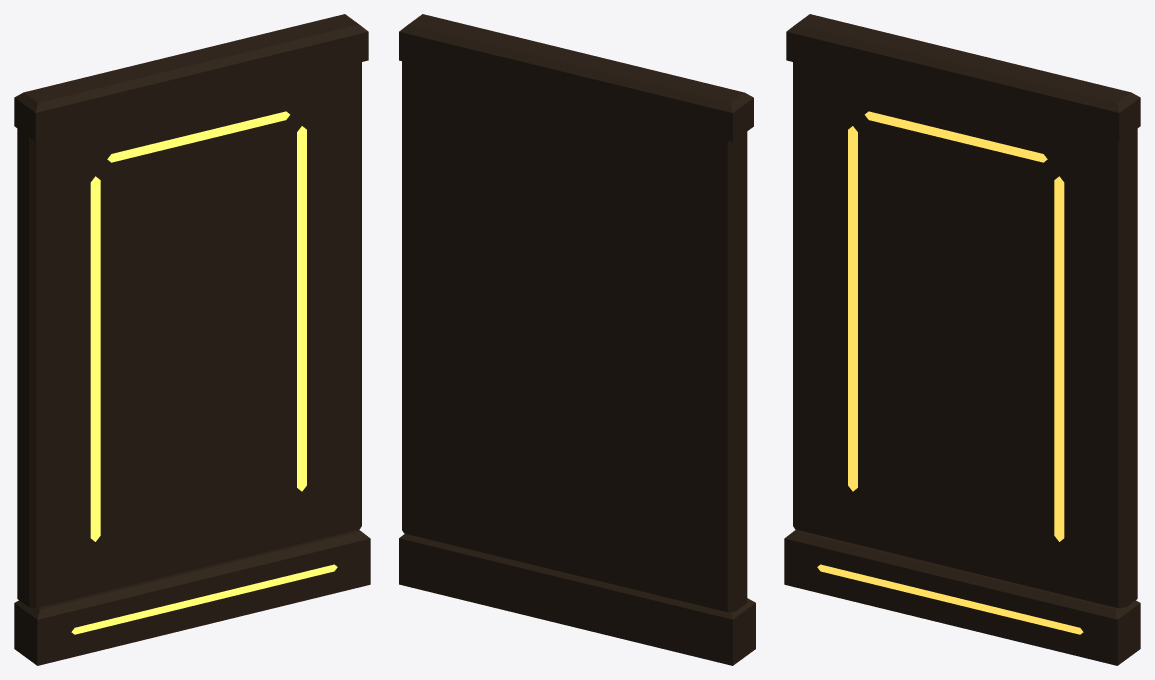
Rendered from wall_hard.glb.
3 views of the same model, side by side, from view 1: azimuth 30°, elevation 25°; view 2: azimuth 150°, elevation 25°; view 3: azimuth 330°, elevation 25° (orthographic).
Visible parts, largest first — view 1: Mesh; view 2: Mesh; view 3: Mesh.
Part boxes in pixels (<box>): Mesh: <box>14,14,370,665</box>; Mesh: <box>399,14,755,665</box>; Mesh: <box>784,14,1140,665</box>.
Size of the model in its own units: 2 by 3.2 by 0.246.
